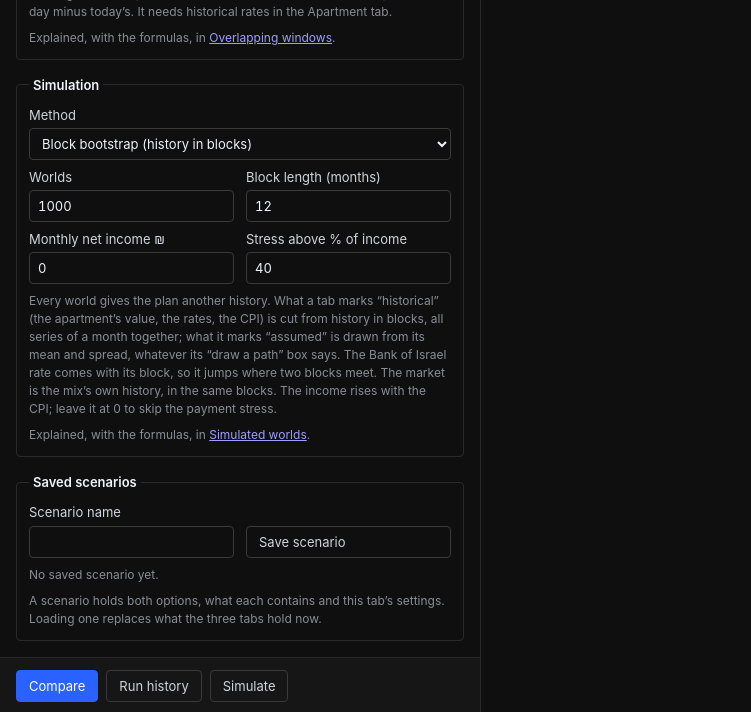
Test case: PlannerCompare › reports a response without what the page needs, instead of breaking on it
The image size is (751, 712).
(page scrolled)
Click the button "Compare" at (57, 686), box [16,670,98,702]
(page scrolled)
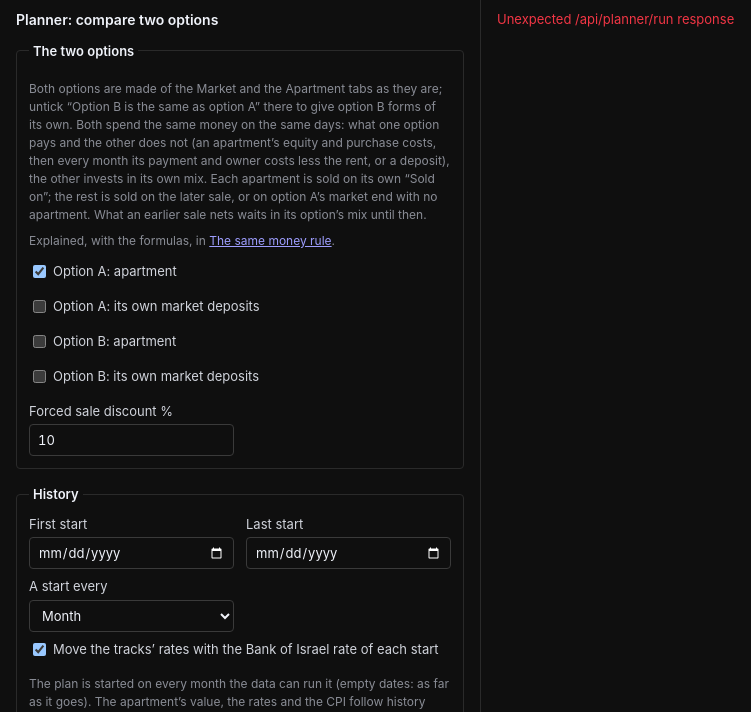
Expected: the message reads "Unexpected /api/planner/run response", [497,11,734,27]
